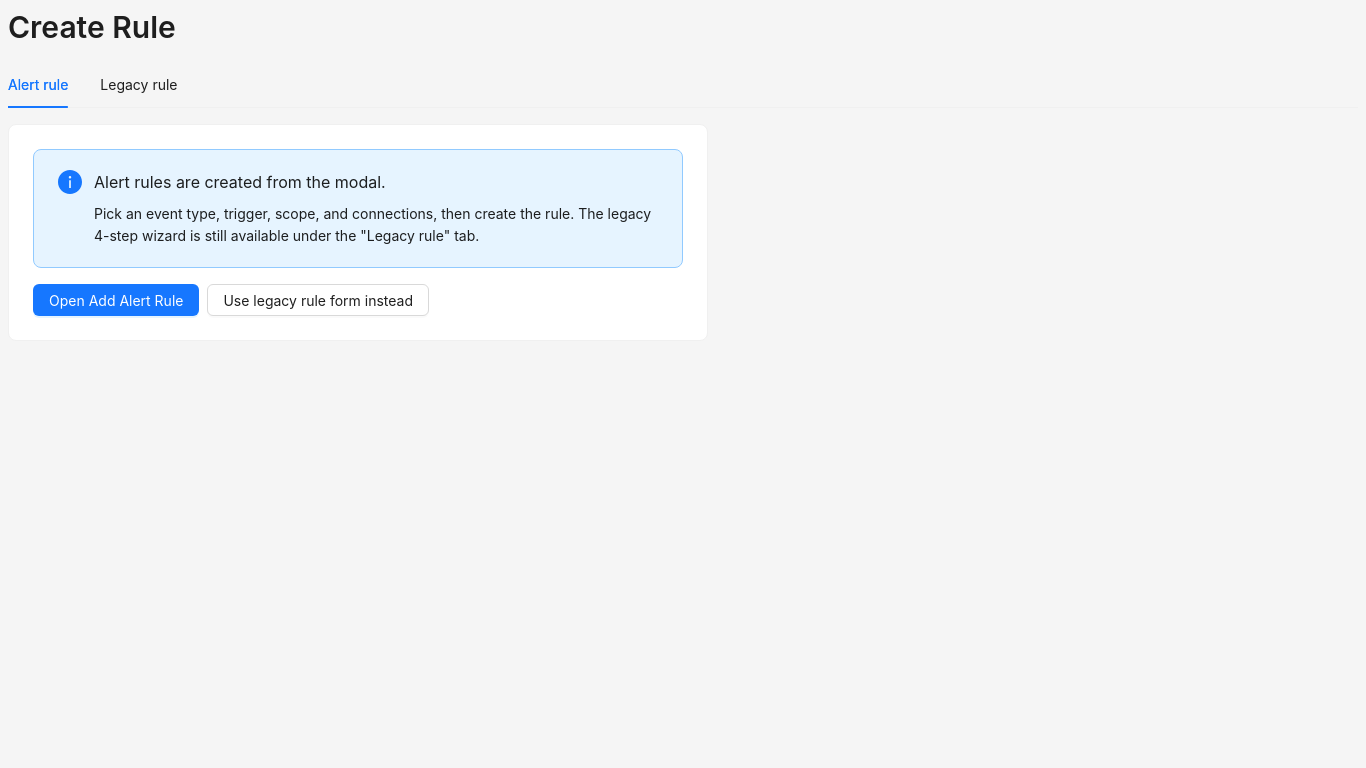
it: RuleEditor › renders the legacy wizard step navigation under the Legacy rule tab
The image size is (1366, 768).
Click the tab "Legacy rule" at (139, 85), box [100,74,178,96]
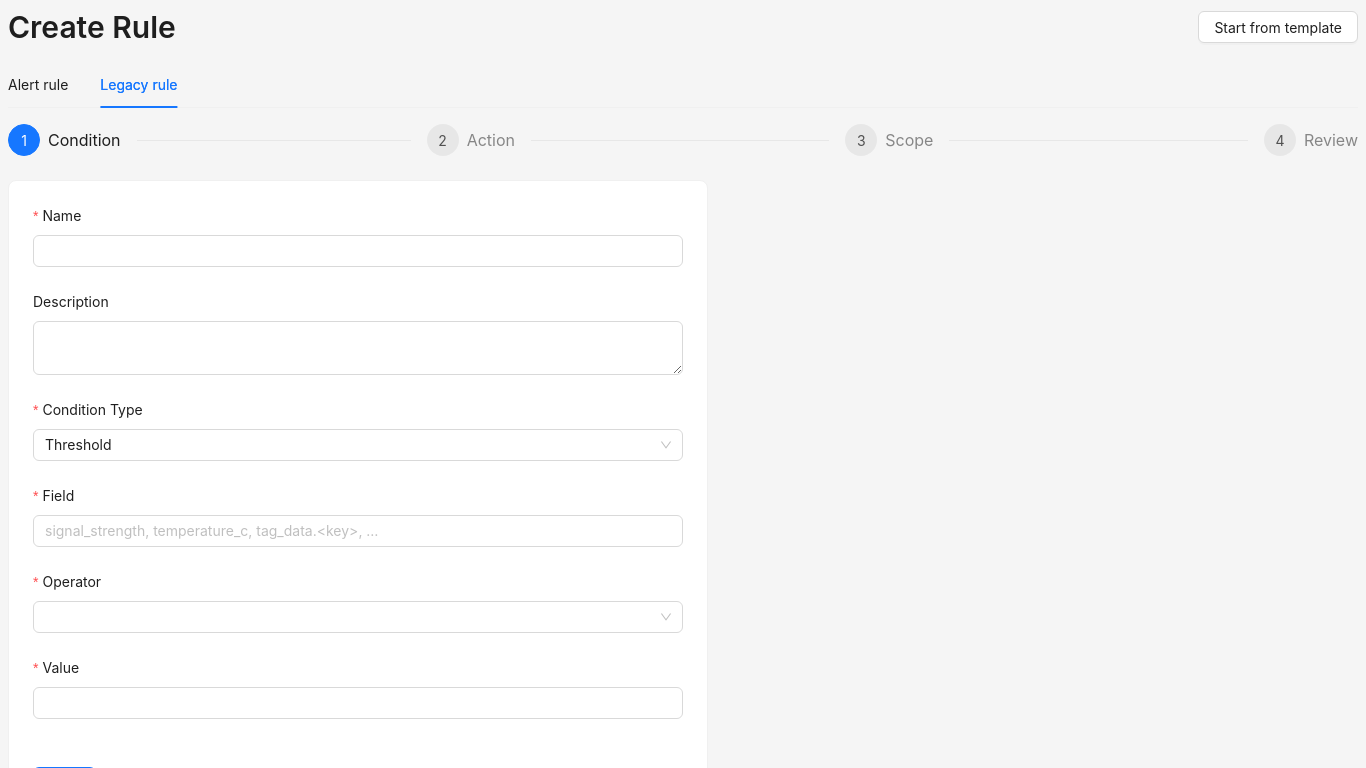
Check: the text "Condition" is shown, box [48,124,137,156]
Check: the text "Action" is shown, box [467,124,531,156]
Check: the text "Review" is shown, box [1304,124,1358,156]
